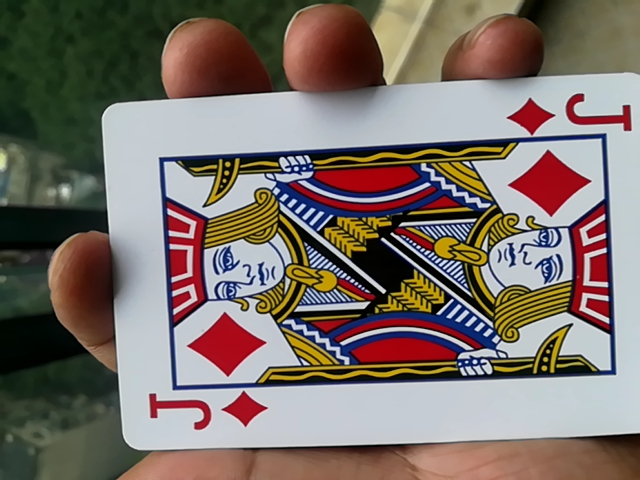fk j: (96, 96, 637, 463)
